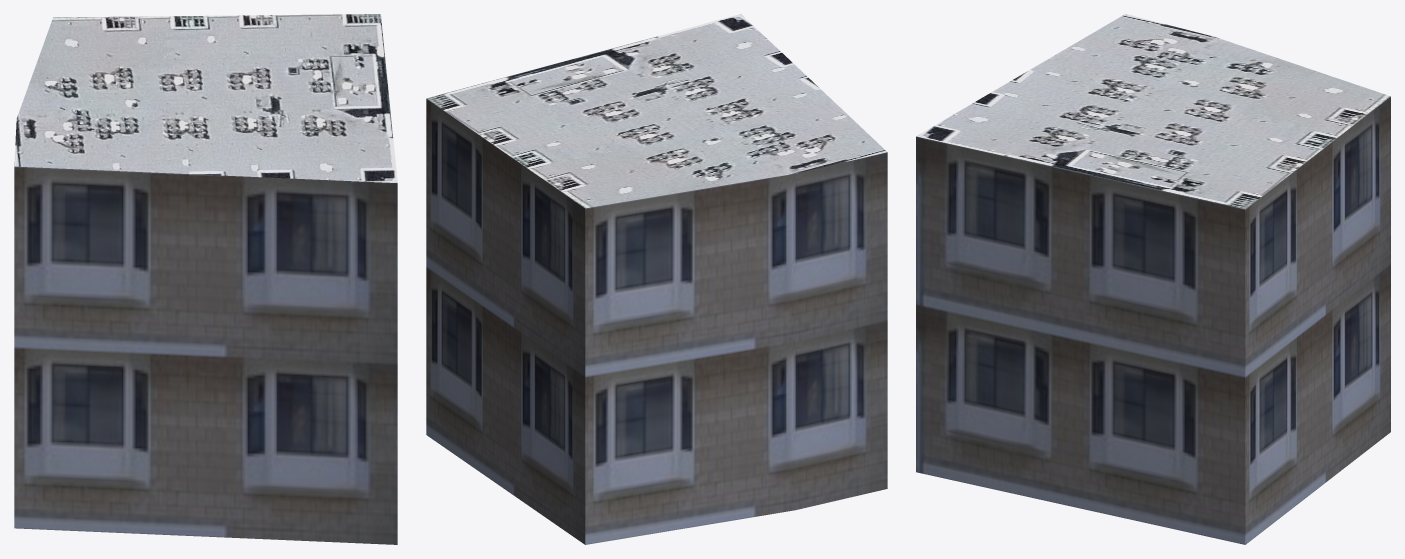
File: ResTex__3444.fbx
3 renders of one model, left to right at view 1: azimuth 30°, elevation 25°; view 2: azimuth 150°, elevation 25°; view 3: azimuth 270°, elevation 25°, orthographic. The views are drawn at different scales.
Parts seen in each view (by area): view 1: CityEngineMaterial_3_m, CityEngineMaterial_m; view 2: CityEngineMaterial_3_m, CityEngineMaterial_m; view 3: CityEngineMaterial_3_m, CityEngineMaterial_m.
Part boxes in pixels (bbox=[...]): CityEngineMaterial_3_m: bbox=[14, 166, 397, 544]; CityEngineMaterial_m: bbox=[14, 14, 397, 182]; CityEngineMaterial_3_m: bbox=[426, 98, 887, 544]; CityEngineMaterial_m: bbox=[426, 14, 887, 208]; CityEngineMaterial_3_m: bbox=[916, 96, 1390, 544]; CityEngineMaterial_m: bbox=[916, 14, 1390, 209].
Bounding box in the file's own units: 7.49 × 6 × 7.69.
2 materials, 2 textured.
